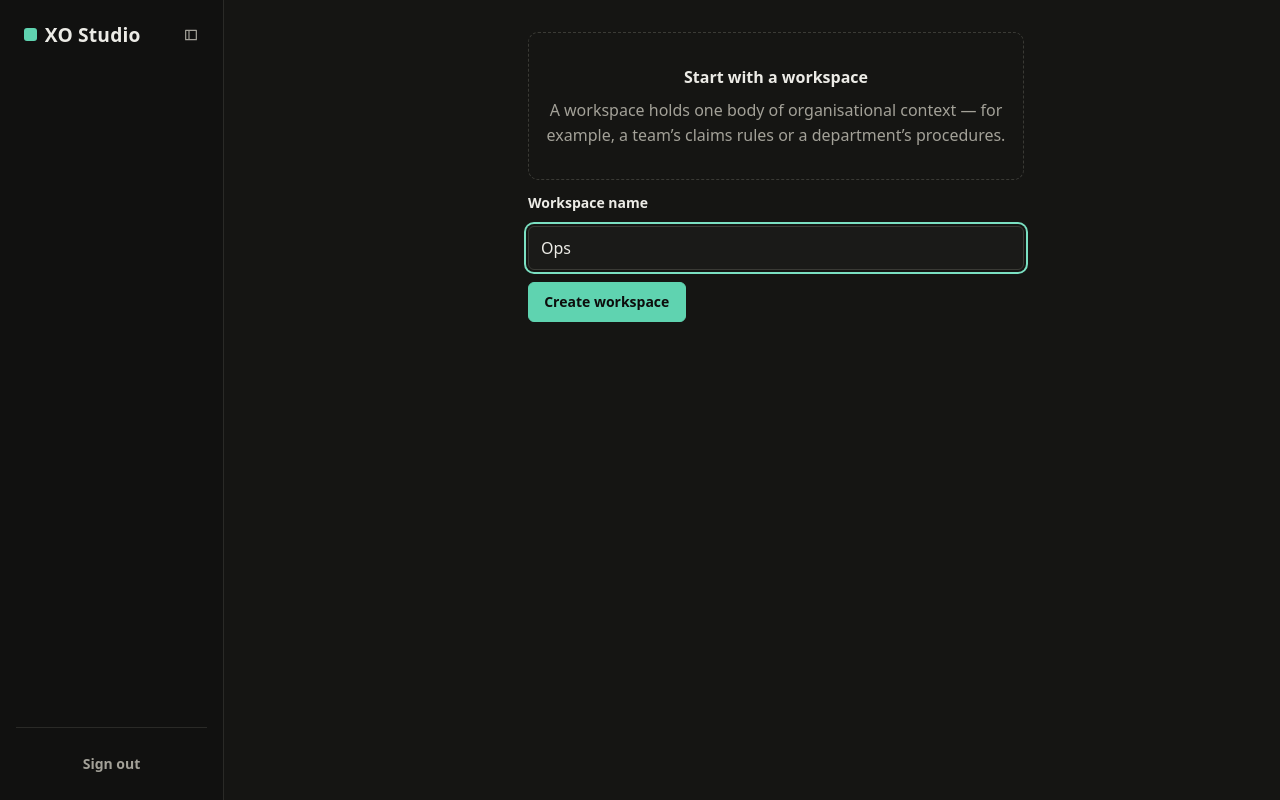
it: emergency stops › releasing asks first and says that refused runs are not restarted
The width and height of the screenshot is (1280, 800).
Earlier steps of the test are not shown.
Click the button "Create workspace": point(607, 302) [528, 282, 686, 322]
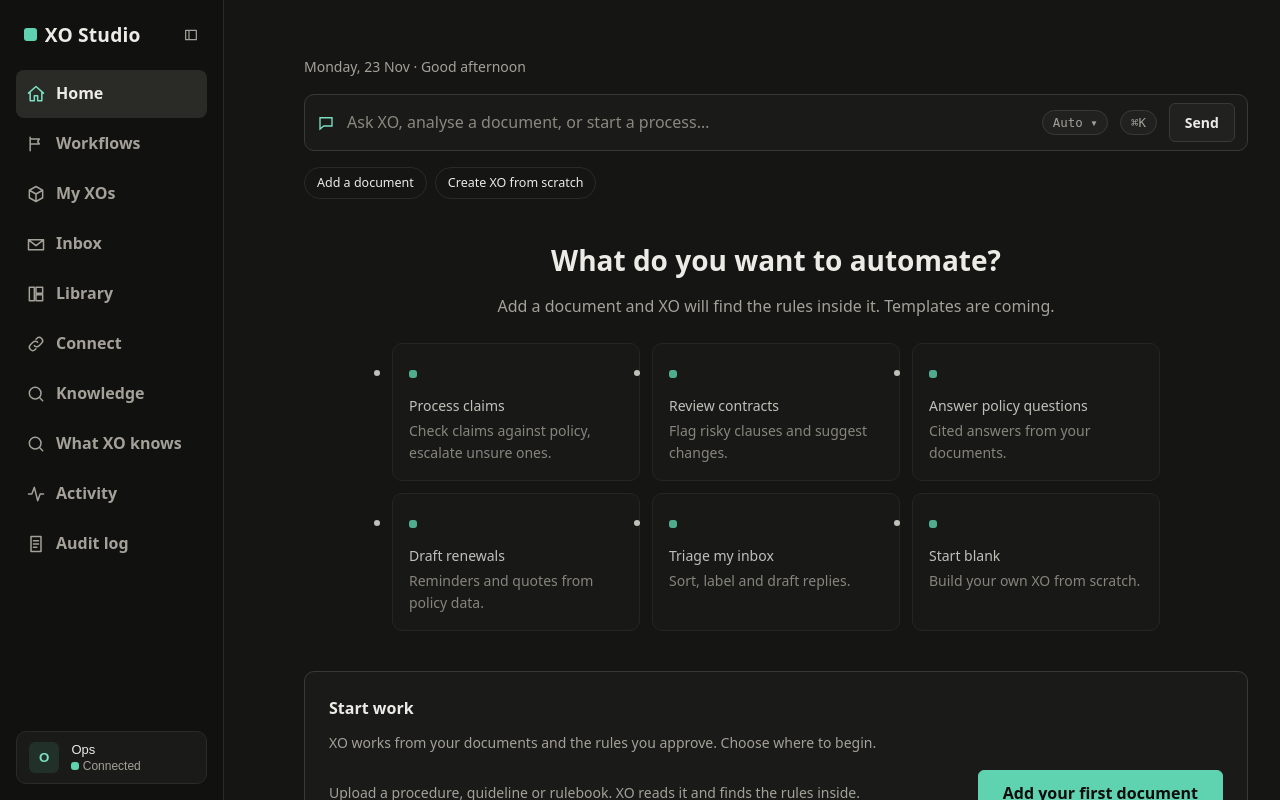
Click the button with aria-label "Workspace menu": point(112, 758) [16, 731, 207, 784]
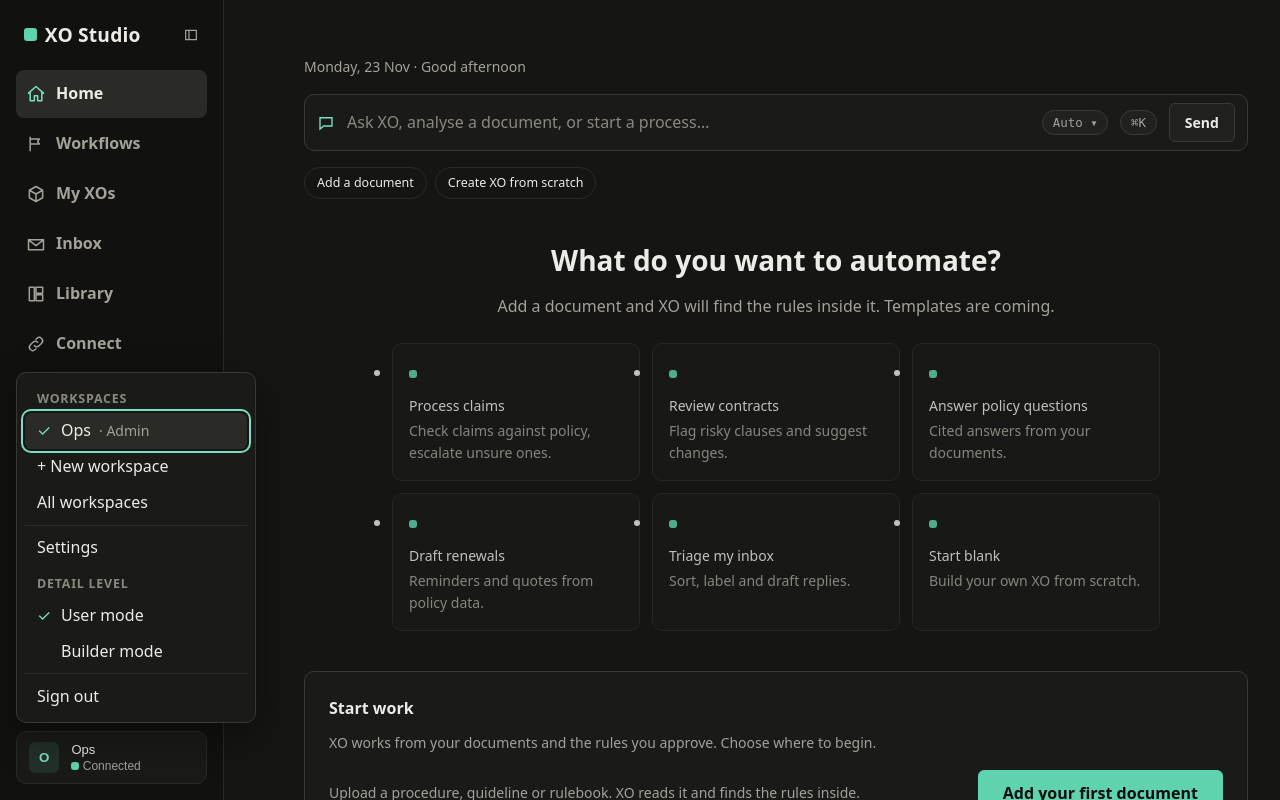
Click the menu item "Settings": point(136, 548) [25, 530, 247, 566]
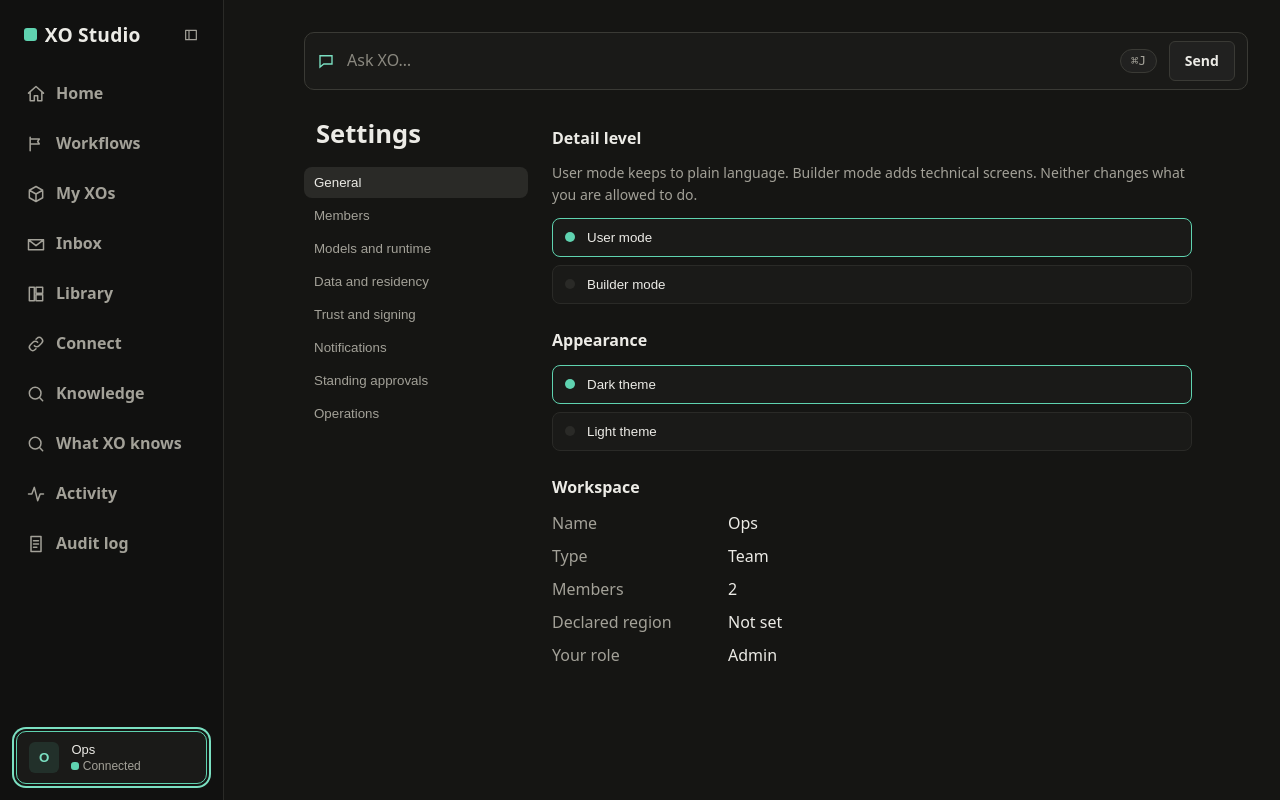
Click the tab "Operations": point(416, 414) [304, 398, 528, 429]
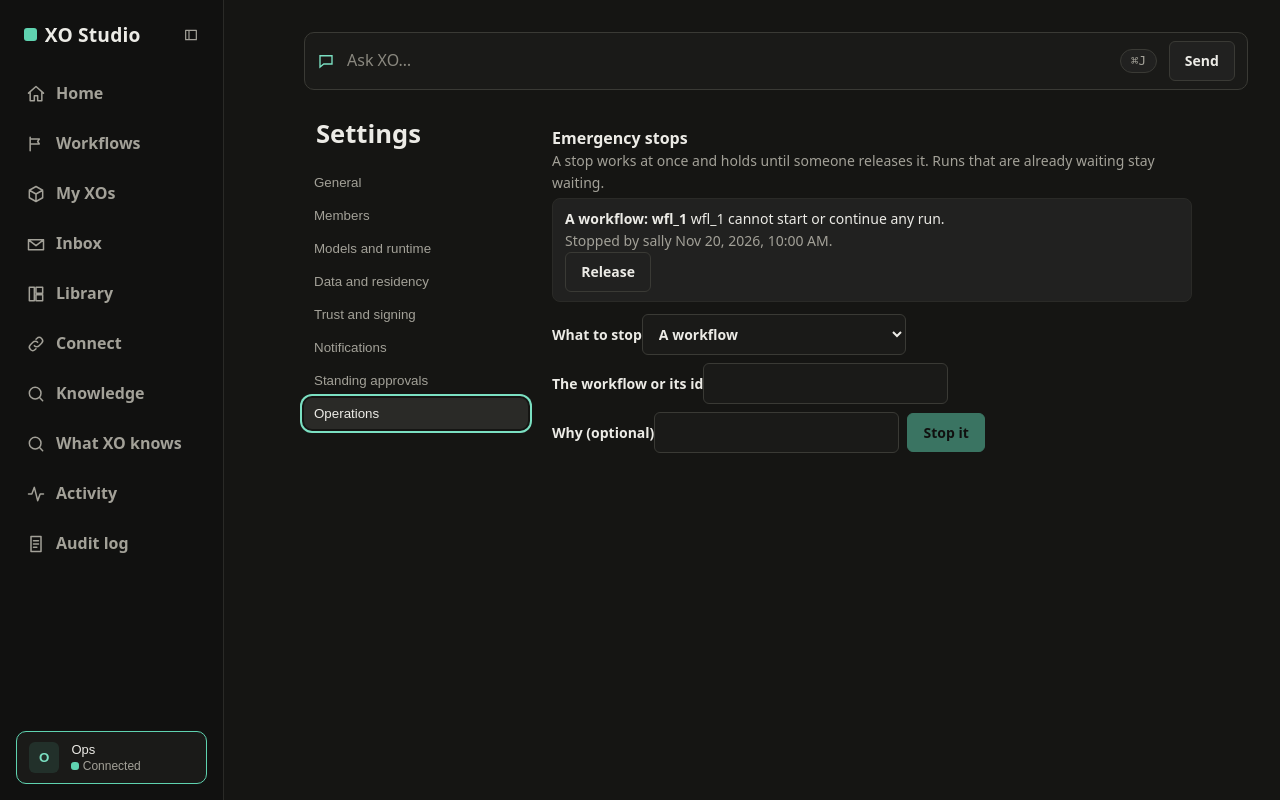
Click the button "Release": point(608, 272) [565, 252, 651, 292]
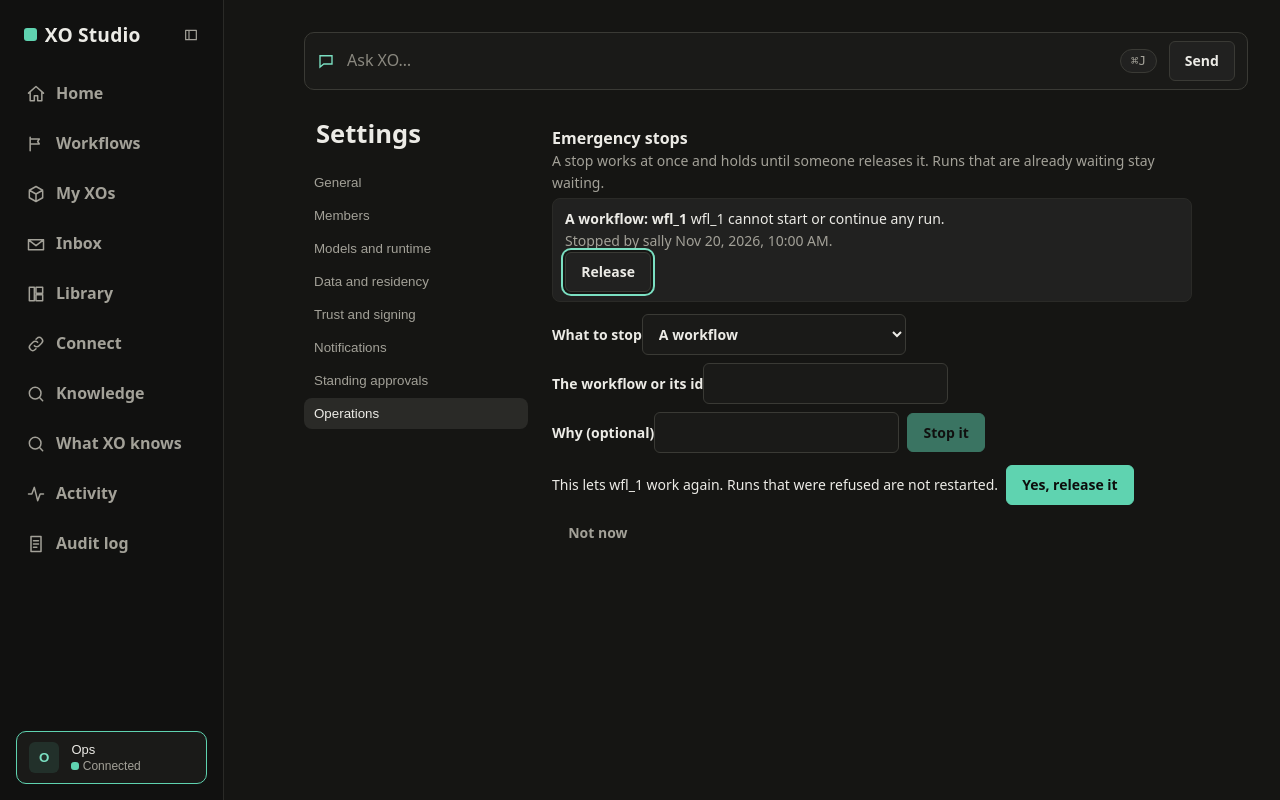
Now the text "Runs that were refused are not restarted" is shown, box [552, 475, 998, 494]
Click the button "Yes, release it": point(1070, 485) [1006, 465, 1134, 505]
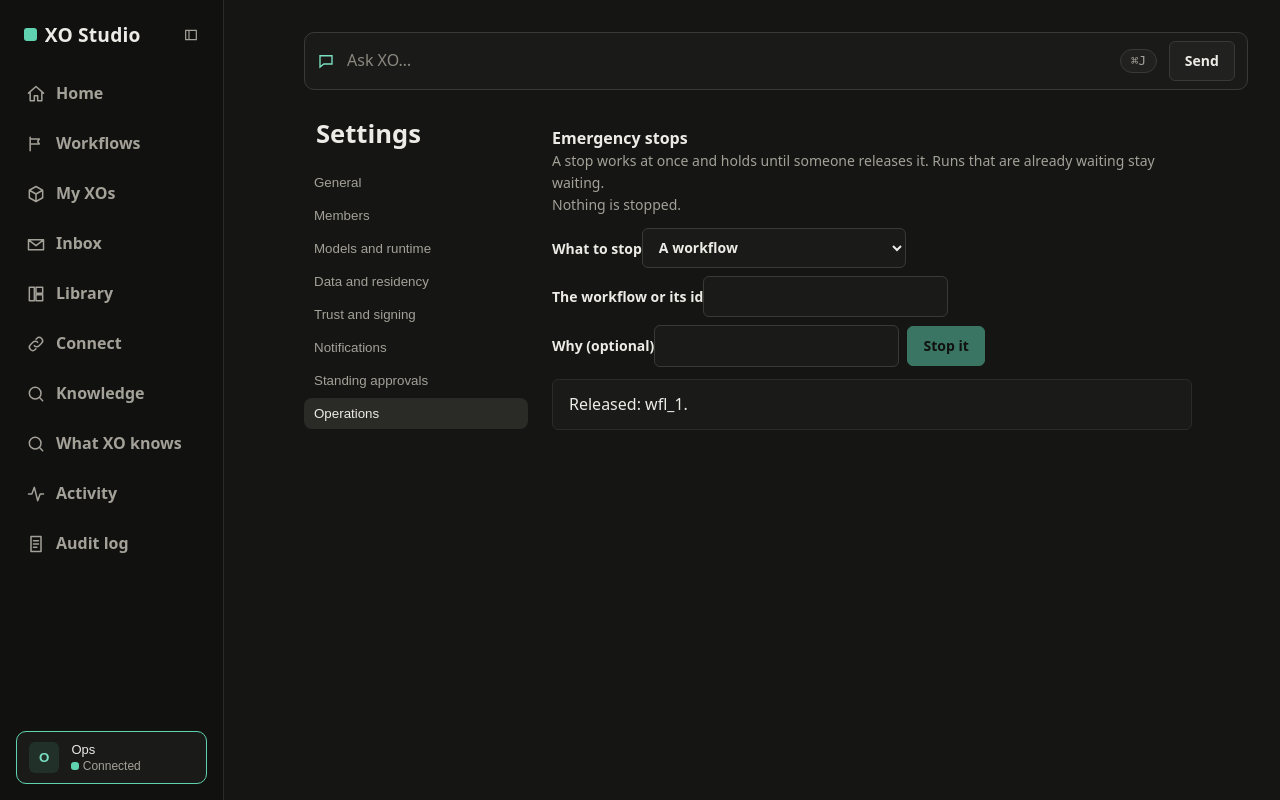
Now the text "Released: wfl_1." is shown, box [552, 379, 1192, 430]
Now the text "Nothing is stopped." is shown, box [552, 195, 681, 214]
